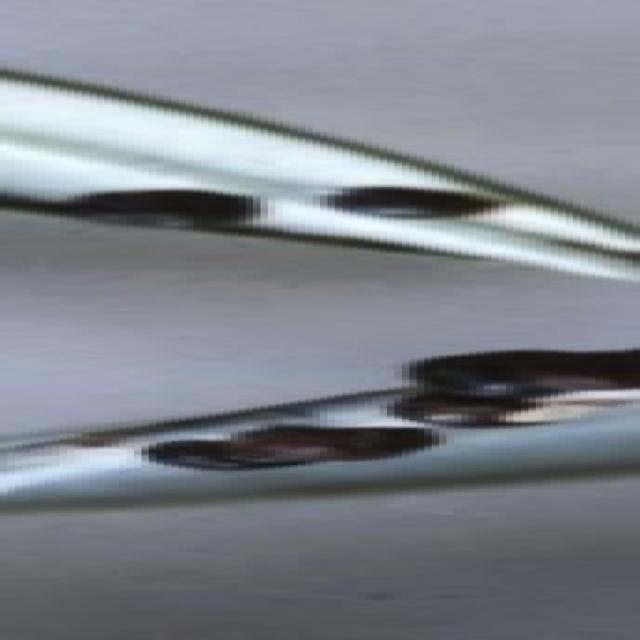BlackScale: (394, 350, 632, 425), (142, 424, 424, 470), (90, 190, 246, 230), (320, 187, 491, 220)
